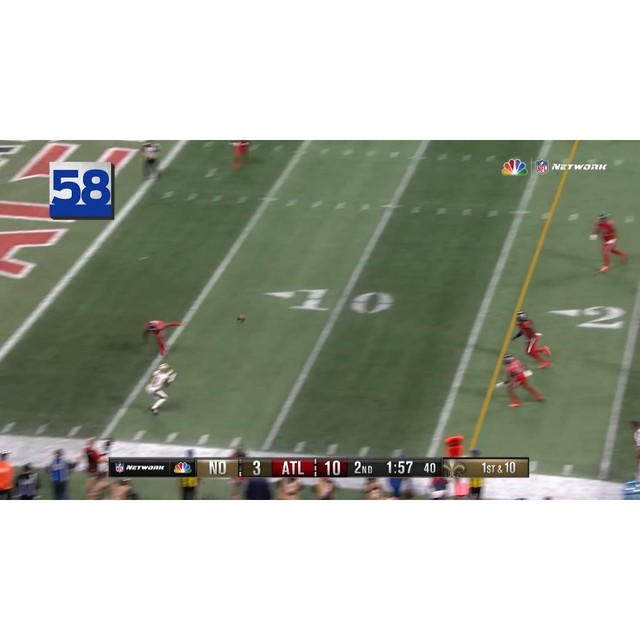american-football-player: (497, 354, 547, 408), (589, 212, 630, 273), (511, 311, 552, 368), (145, 362, 177, 414), (141, 319, 172, 357), (139, 140, 162, 180)
